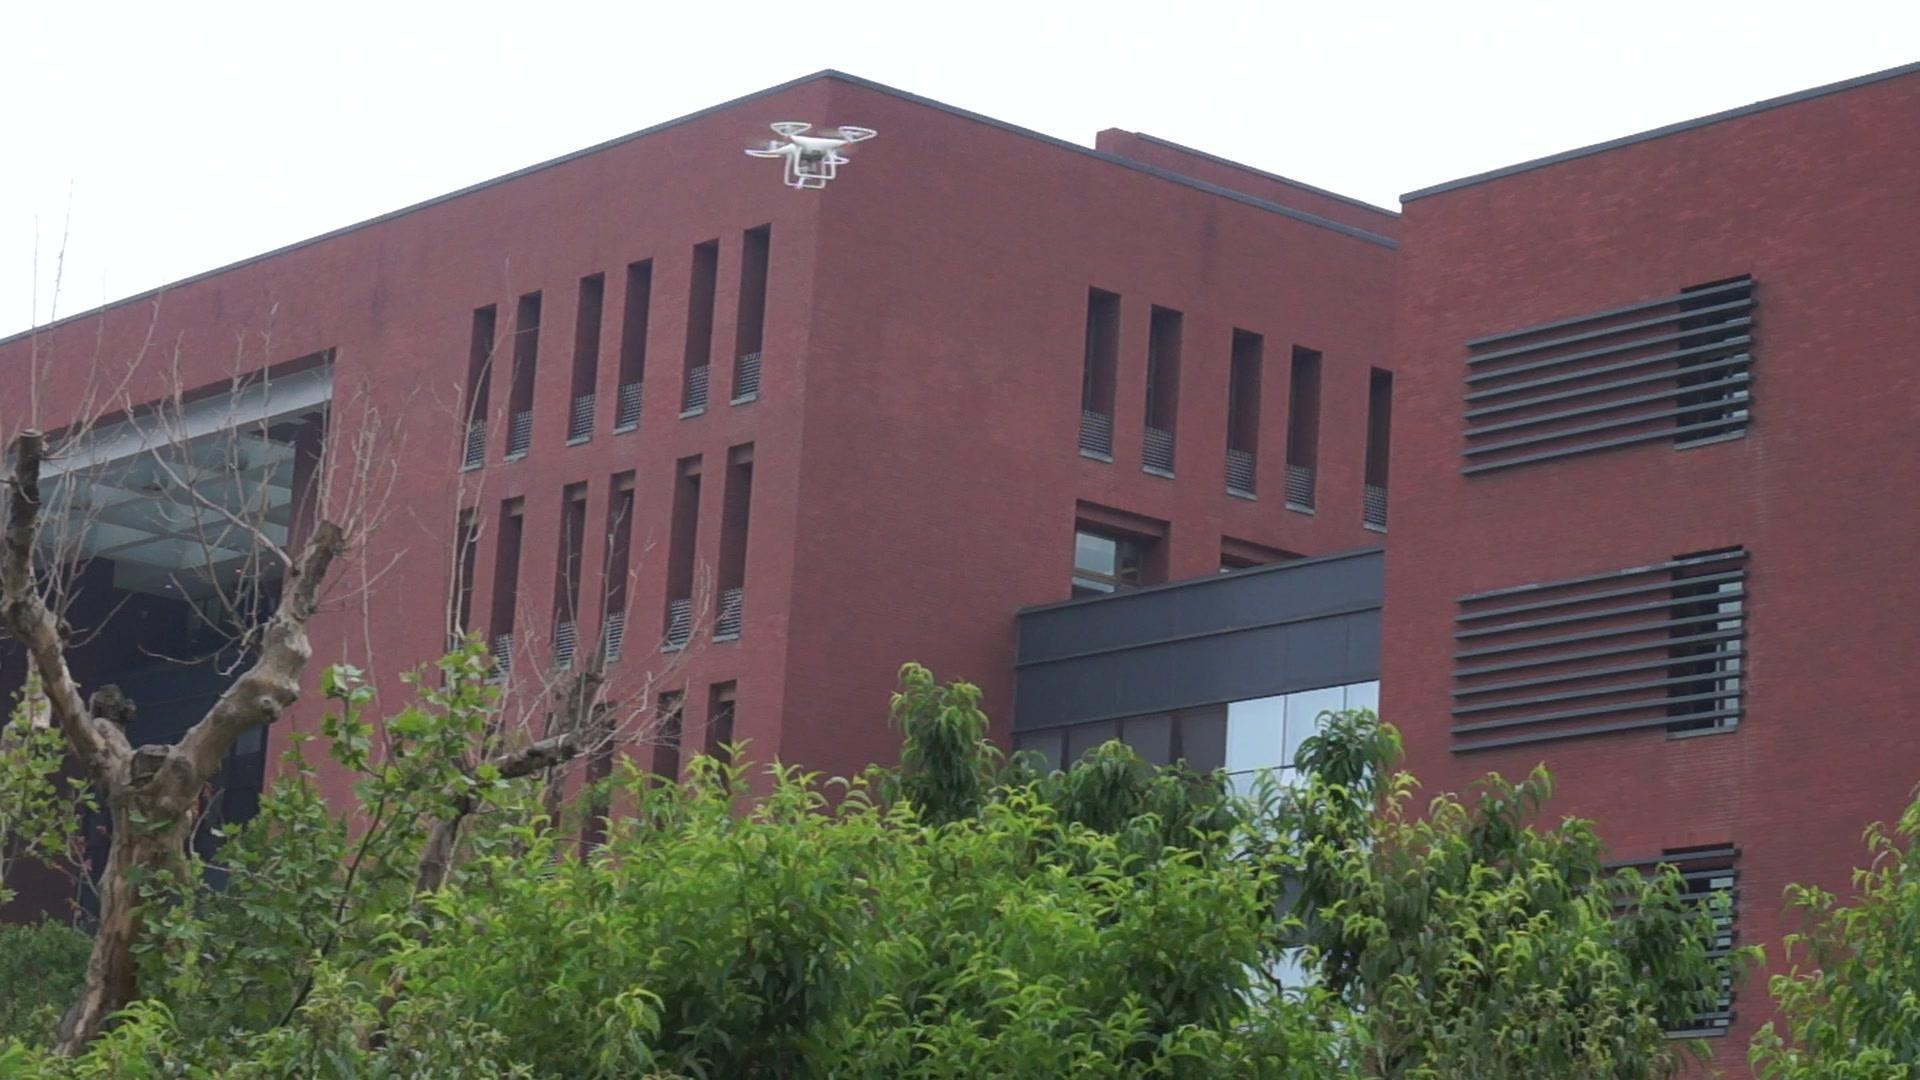UAV: (745, 123, 880, 190)
